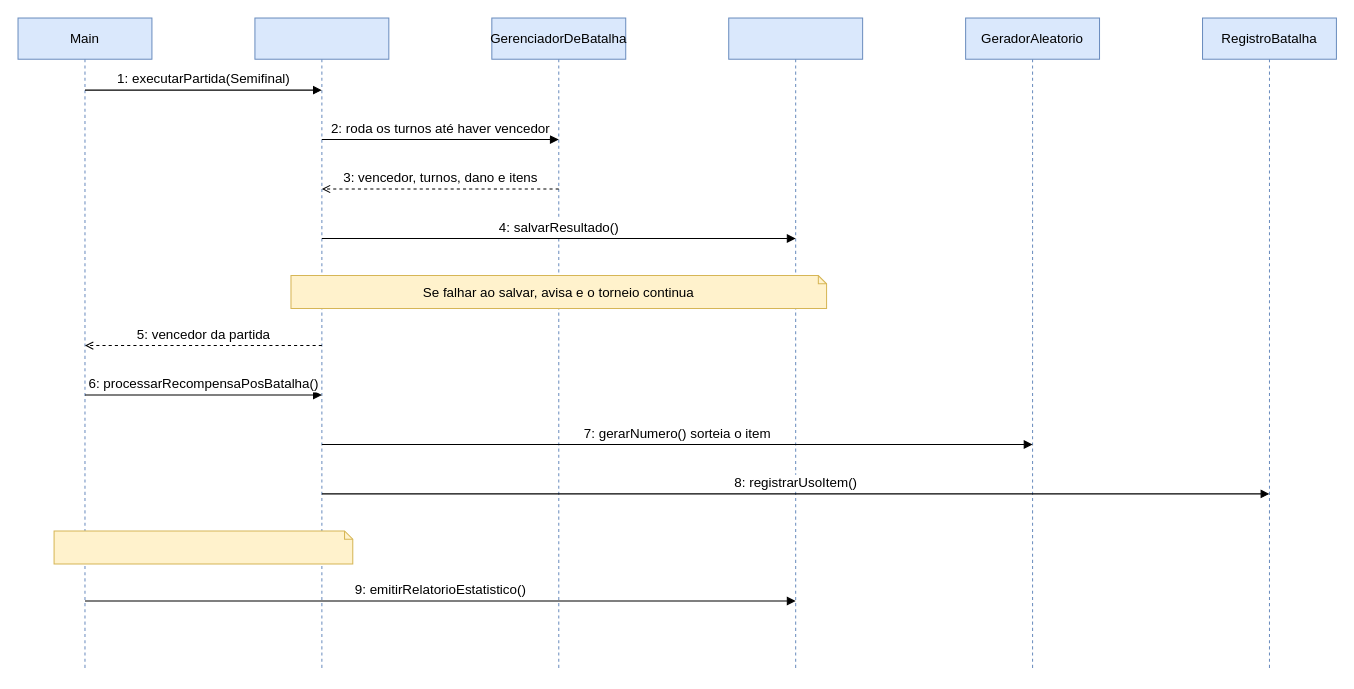
The diagram is 1354 pixels wide and 689 high, and some of its shapes have lost their labels. The centre of each missing label's shape, as x and y in pixels:
GerenciadorTorneio: (321,344)
Repete para a outra semifinal e para a Grande Final: (203,547)
RepositorioResultados: (795,344)
